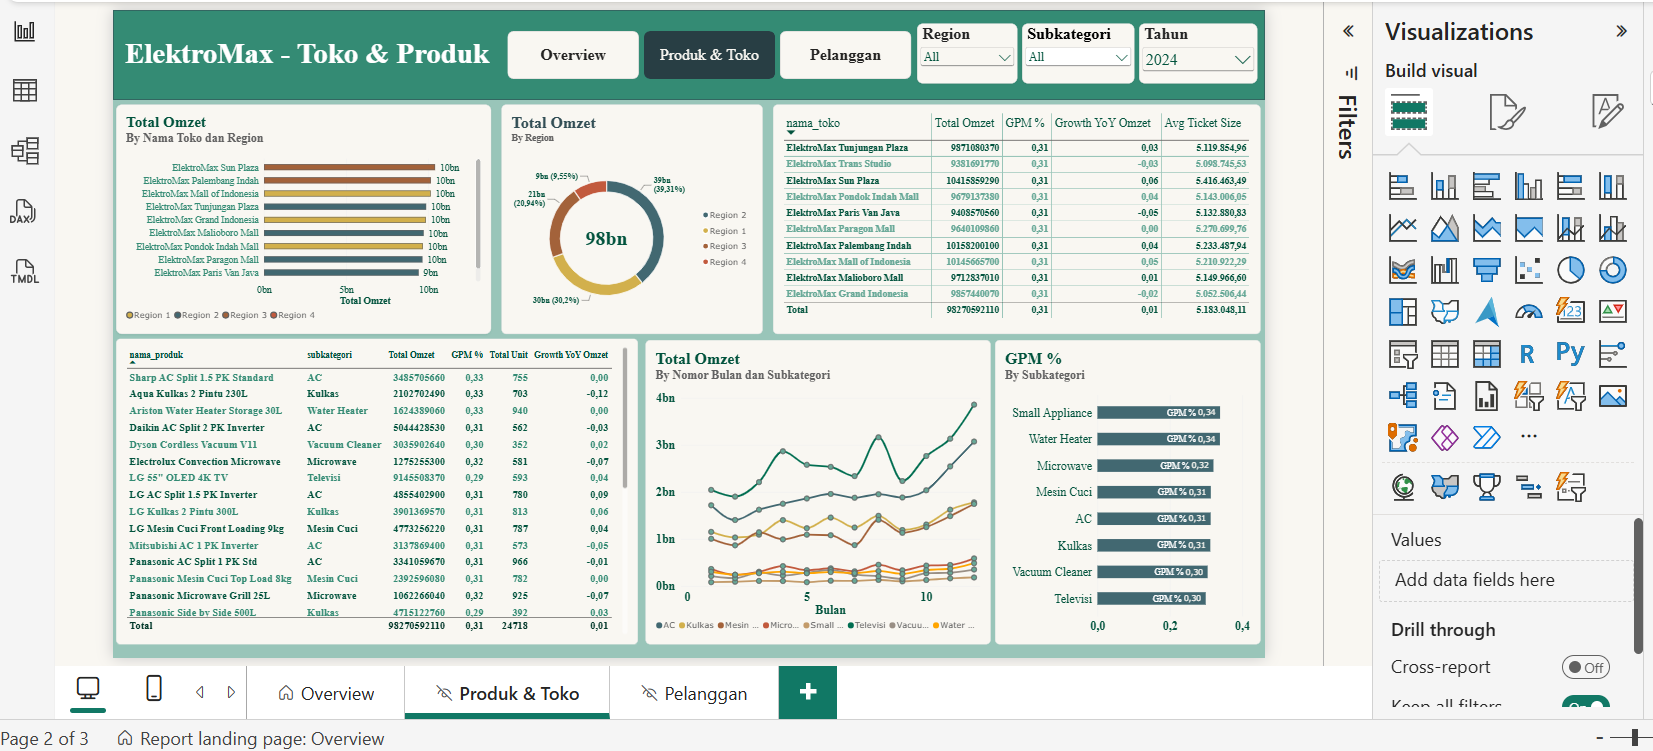

The dashboard page shown, as its layout file describes it:
{"tool":"powerbi","page":{"name":"Produk & Toko","canvas":[1920,1080],"ordinal":1},"visuals":[{"type":"shape","box":[0,0,1920,150],"z":0},{"type":"barChart","title":"Total Omzet","fields":{"Category":["DIM_TOKO.nama_toko"],"Series":["DIM_TOKO.region"],"Y":["_MEASURE.Total Omzet"]},"box":[5,157.5,625,382.5],"z":1000},{"type":"donutChart","title":"Total Omzet","fields":{"Category":["DIM_TOKO.region"],"Y":["_MEASURE.Total Omzet"]},"box":[647.5,157.5,435,382.5],"z":2000},{"type":"tableEx","fields":{"Values":["DIM_TOKO.nama_toko","_MEASURE.Total Omzet","_MEASURE.GPM %","_MEASURE.Growth YoY Omzet","_MEASURE.Avg Ticket Size"]},"box":[1100,157.5,812.5,382.5],"z":3000},{"type":"tableEx","fields":{"Values":["DIM_PRODUK.nama_produk","DIM_PRODUK.subkategori","_MEASURE.Total Omzet","_MEASURE.GPM %","_MEASURE.Total Unit","_MEASURE.Growth YoY Omzet"]},"box":[5,547.5,870,510],"z":4000},{"type":"lineChart","title":"Total Omzet","fields":{"Category":["DIM_WAKTU.tahun Hierarki.tahun","DIM_WAKTU.tahun Hierarki.kuartal","DIM_WAKTU.tahun Hierarki.nomor_bulan","DIM_WAKTU.tahun Hierarki.tanggal"],"Series":["DIM_PRODUK.subkategori"],"Y":["_MEASURE.Total Omzet"]},"box":[887.5,550,575,507.5],"z":5000},{"type":"barChart","title":"GPM %","fields":{"Category":["DIM_PRODUK.subkategori"],"Y":["_MEASURE.GPM %"]},"box":[1470,550,442.5,507.5],"z":6000},{"type":"slicer","fields":{"Values":["DIM_TOKO.region"]},"box":[1339.9,23.5,167.5,100],"z":7000},{"type":"slicer","fields":{"Values":["DIM_PRODUK.subkategori"]},"box":[1514.9,23.5,187.5,100],"z":8000},{"type":"pageNavigator","box":[656.3,34.2,673.4,80.5],"z":9000},{"type":"slicer","fields":{"Values":["DIM_WAKTU.tahun"]},"box":[1709.9,23.5,197.5,100],"z":10000},{"type":"textbox","box":[19.5,43.9,642.5,67.5],"z":11000}]}

Visuals, with their boxes on the page's 1920x1080 design canvas (x1, y1, x2, y2). These are canvas units, not pixel positions in the 1653x751 screenshot, which may show the page scaled, cropped or inside an application window:
shape: <region>0, 0, 1920, 150</region>
"Total Omzet" barChart: <region>5, 158, 630, 540</region>
"Total Omzet" donutChart: <region>648, 158, 1082, 540</region>
tableEx - DIM_TOKO.nama_toko x _MEASURE.Total Omzet: <region>1100, 158, 1912, 540</region>
tableEx - DIM_PRODUK.nama_produk x DIM_PRODUK.subkategori: <region>5, 548, 875, 1058</region>
"Total Omzet" lineChart: <region>888, 550, 1462, 1058</region>
"GPM %" barChart: <region>1470, 550, 1912, 1058</region>
slicer - DIM_TOKO.region: <region>1340, 24, 1507, 124</region>
slicer - DIM_PRODUK.subkategori: <region>1515, 24, 1702, 124</region>
pageNavigator: <region>656, 34, 1330, 115</region>
slicer - DIM_WAKTU.tahun: <region>1710, 24, 1907, 124</region>
textbox: <region>20, 44, 662, 111</region>
